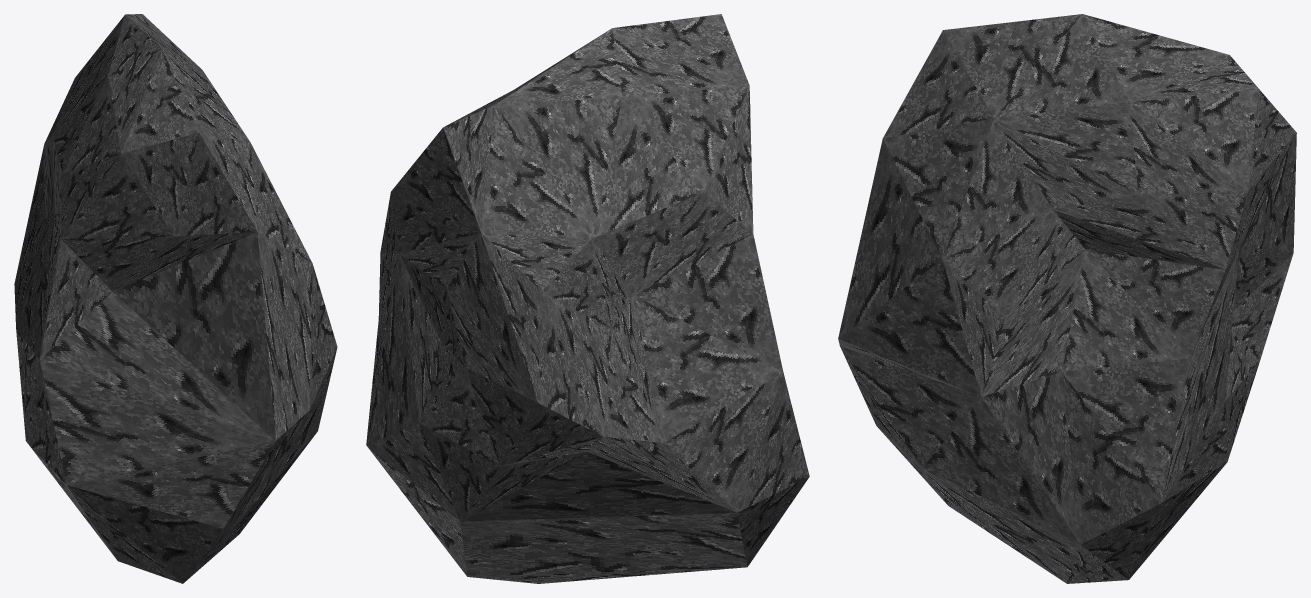
The model's file is rock.glb.
3 renders of one model, left to right at view 1: azimuth 30°, elevation 25°; view 2: azimuth 150°, elevation 25°; view 3: azimuth 270°, elevation 25°, orthographic. The views are drawn at different scales.
Visible parts, largest first — view 1: Cube; view 2: Cube; view 3: Cube.
Part boxes in pixels (x1,y1,x2,y2): Cube: (14,14,337,583); Cube: (366,14,809,583); Cube: (838,14,1296,583).
Bounding box in the file's own units: 1.14 × 1.76 × 1.38.
1 material, 1 textured.
